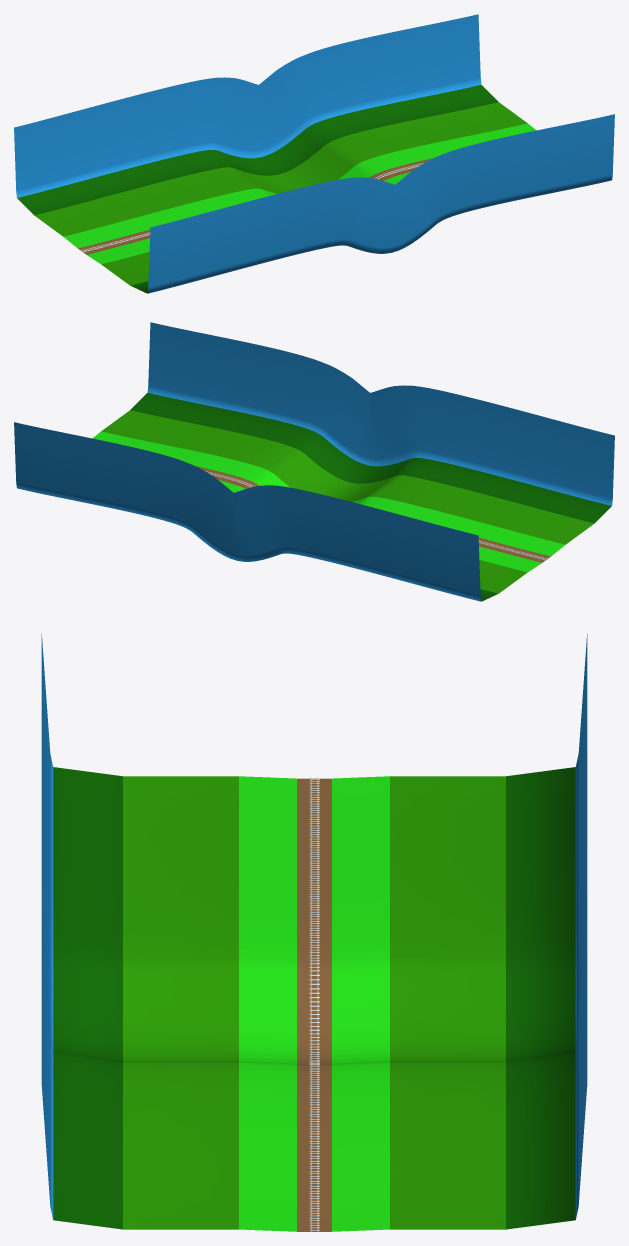
File: B_Hollow_Simple.fbx
3 renders of one model, top to bottom at view 1: azimuth 30°, elevation 25°; view 2: azimuth 150°, elevation 25°; view 3: azimuth 270°, elevation 25°, orthographic. The views are drawn at different scales.
Visible parts, largest first — view 1: Depresión+1.002; view 2: Depresión+1.002; view 3: Depresión+1.002.
Boxes of the visible parts, box(x1,y1,x2,y2) form: Depresión+1.002: box(14, 14, 614, 293); Depresión+1.002: box(14, 322, 614, 601); Depresión+1.002: box(41, 633, 587, 1231).
Size of the model in its own units: 19656 by 3916 by 10000.
